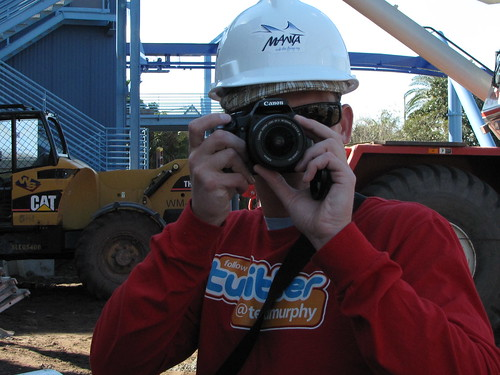person hardhat: (113, 1, 467, 371)
